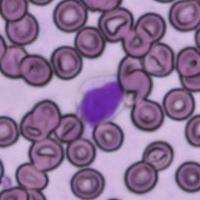M: (74, 75, 125, 128)
